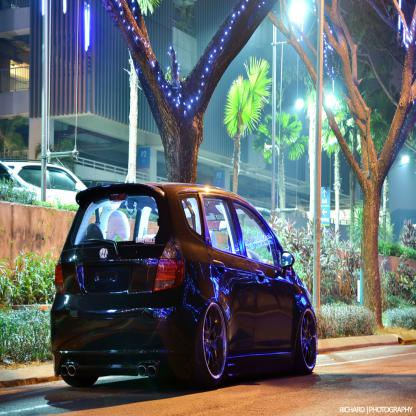Car: (49, 177, 322, 396), (0, 158, 88, 202)
